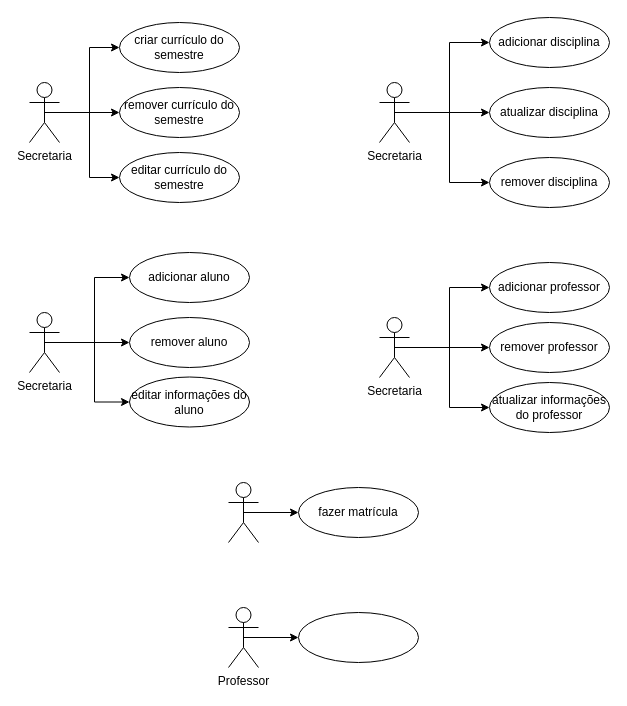
Image size: 627x706. Some labels were removed from this diagram. The shapes that lost their labels are listed below. From the top down, each one's centre as x and y in pixels, then its label:
point (243, 512): Aluno
point (358, 637): visualizar lista de alunos matriculados
